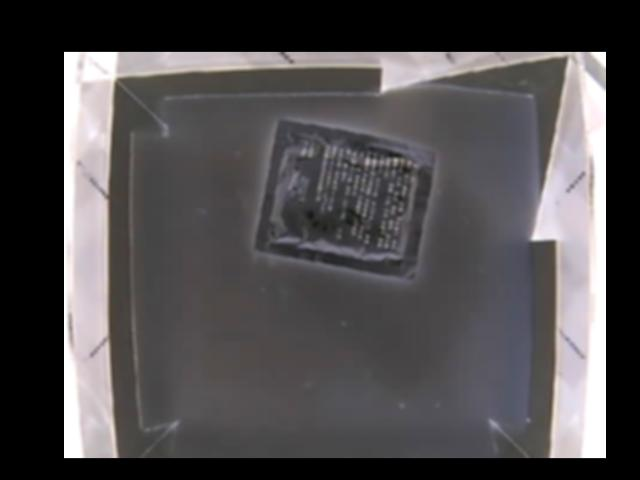Medicine: (254, 118, 436, 277)
